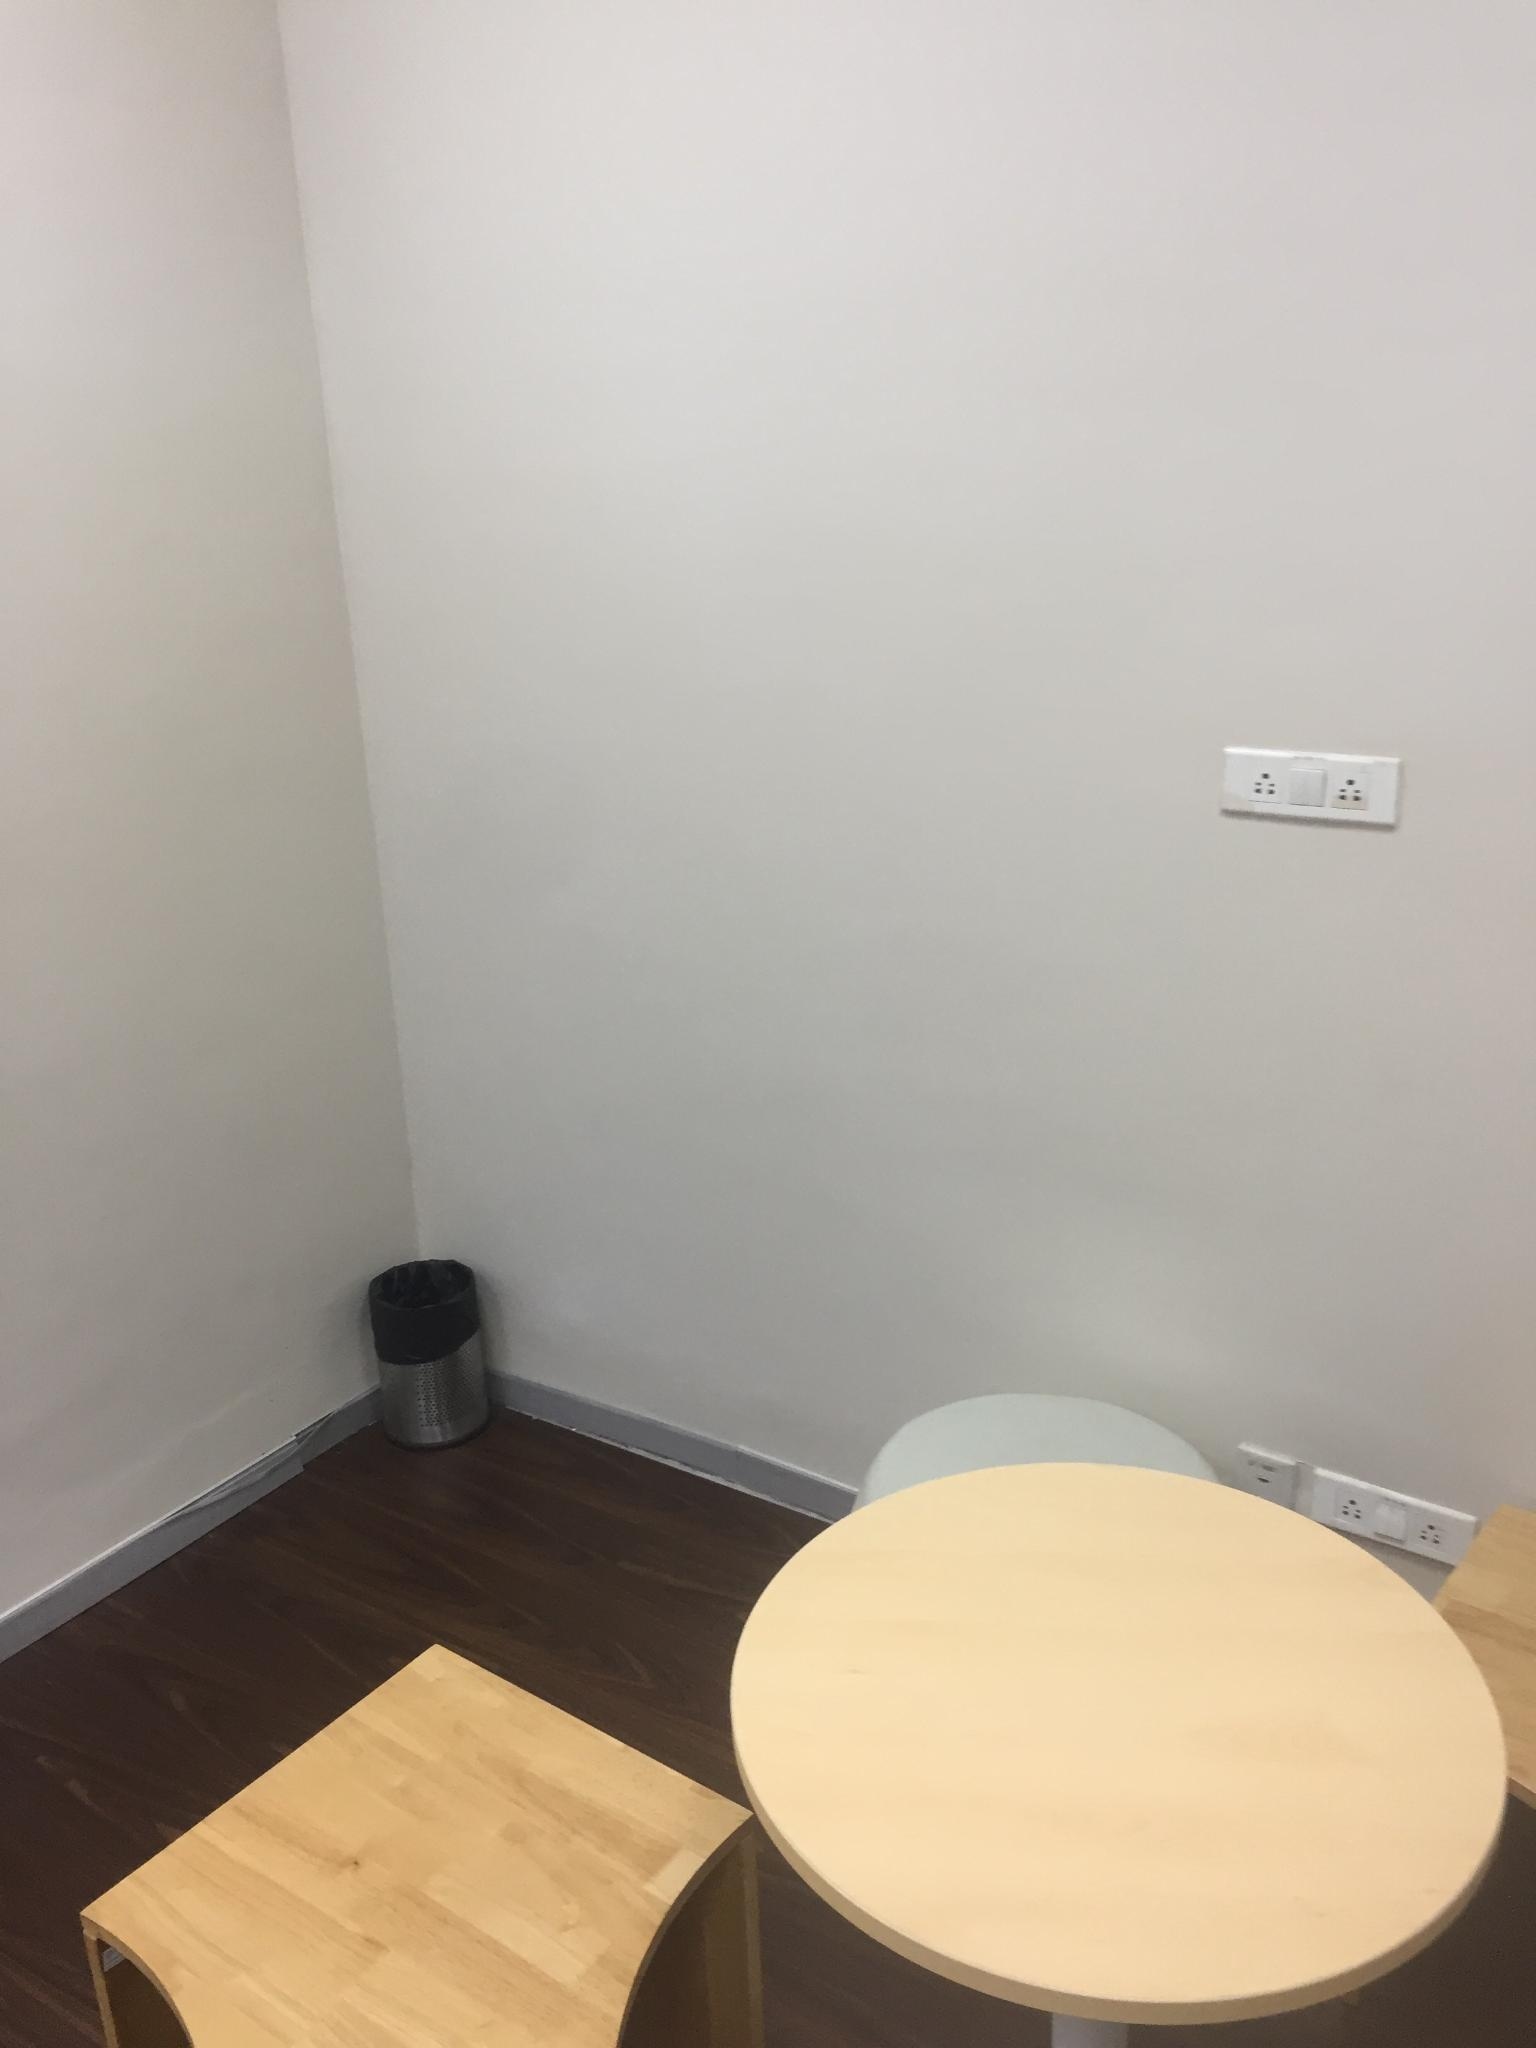chair: (855, 1390, 1218, 1511)
